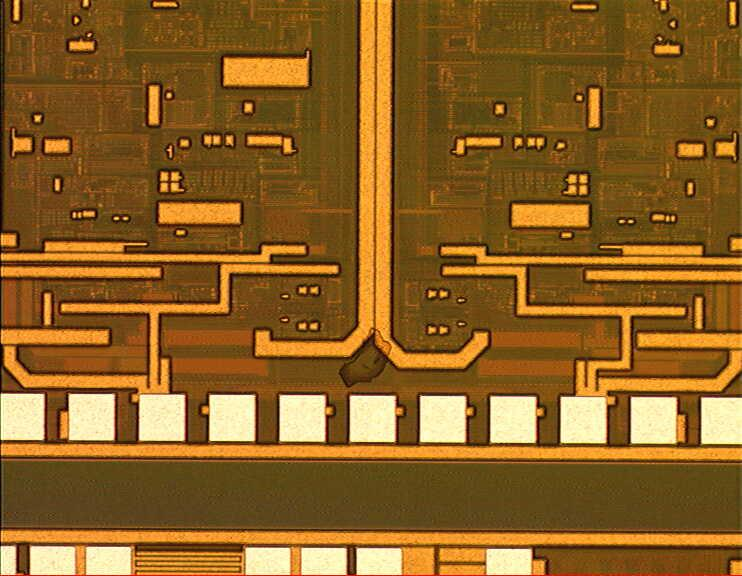PIQ PARTICLE: (337, 326, 395, 390)
